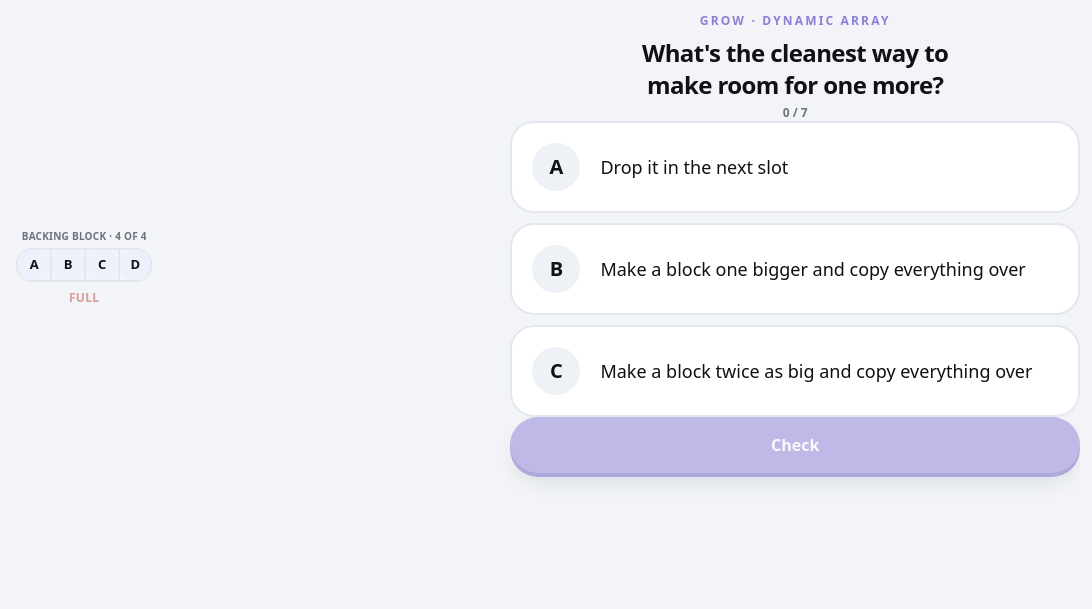
Test: Arrays stage: grow (cleanest fix, branching consequences) › inplace nudges with the static line and never shows the loop or an AI hint
Click the button "A Drop it in the next slot": (556, 167) [510,121,1080,213]
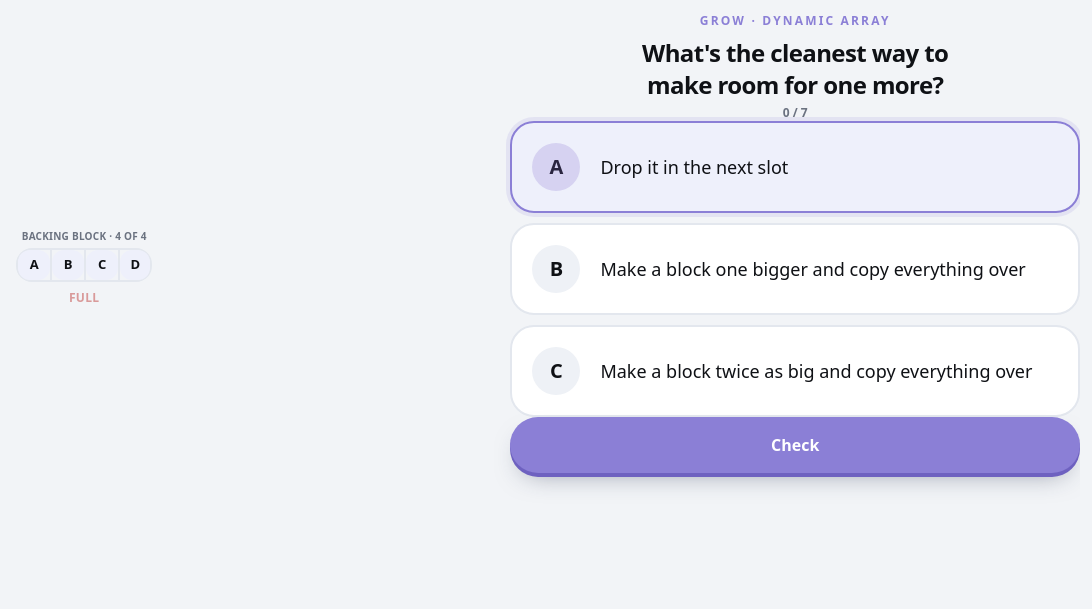
Click the button "Check": (795, 445) [510,417,1080,473]
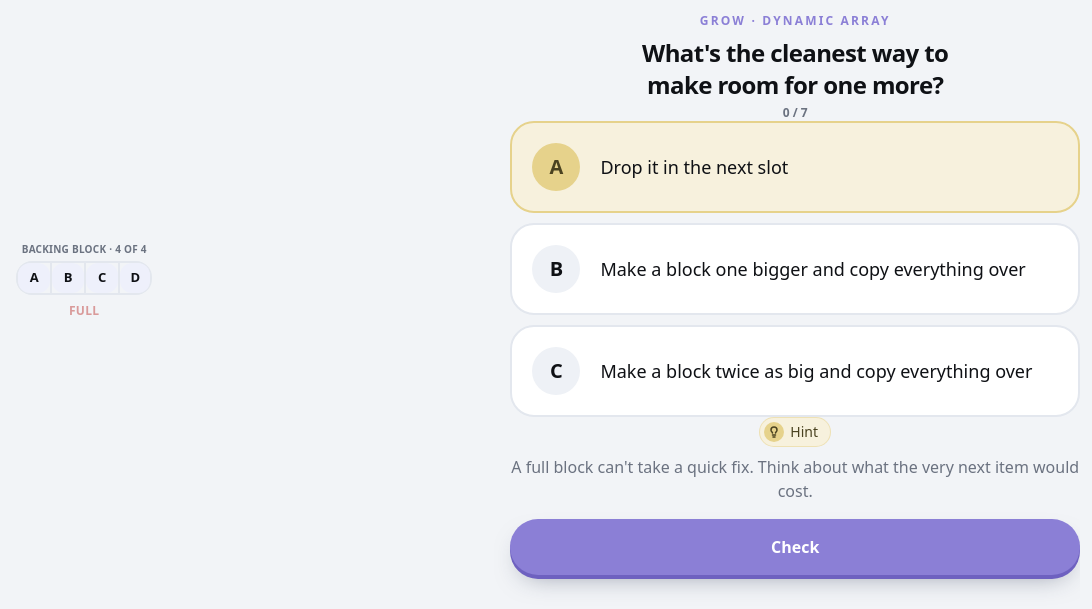
Check: the text "A full block can't take a quick fix. Think about what the very next item would cost." is shown, box [511,456,1079,502]
